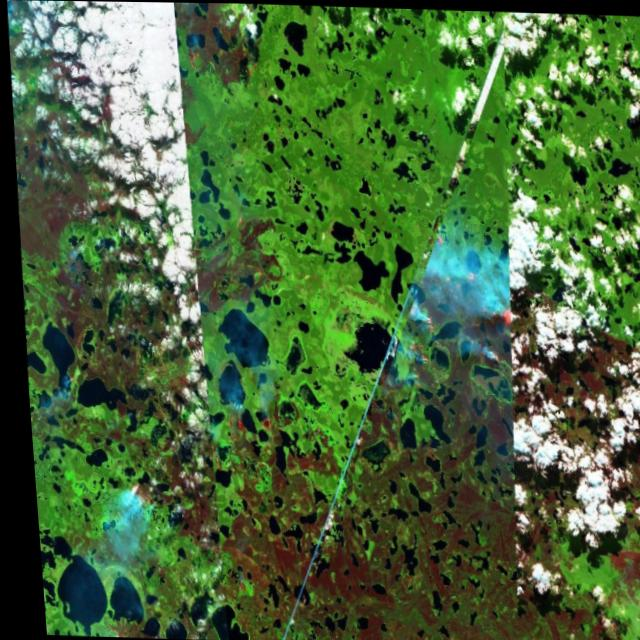fire: (394, 214, 516, 372), (203, 383, 282, 476), (106, 461, 164, 527)
